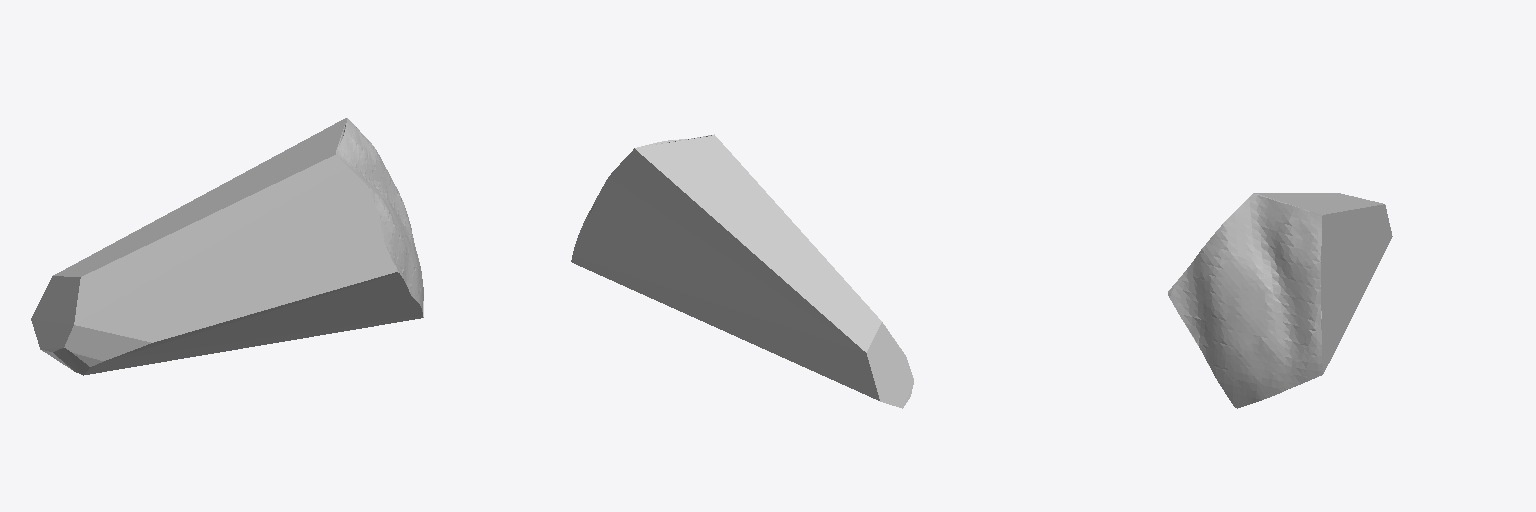
Rendered from low_cell_029.obj.
The picture shows the model from 3 angles: view 1: azimuth 30°, elevation 25°; view 2: azimuth 150°, elevation 25°; view 3: azimuth 270°, elevation 25°; orthographic projection.
Visible parts, largest first — view 1: low_cell.029_low_cell.028; view 2: low_cell.029_low_cell.028; view 3: low_cell.029_low_cell.028.
Boxes of the visible parts, <box> form: low_cell.029_low_cell.028: <box>31,118,423,375</box>; low_cell.029_low_cell.028: <box>571,134,913,408</box>; low_cell.029_low_cell.028: <box>1168,193,1392,408</box>.
Size of the model in its own units: 1.04 by 0.5499 by 0.5807.